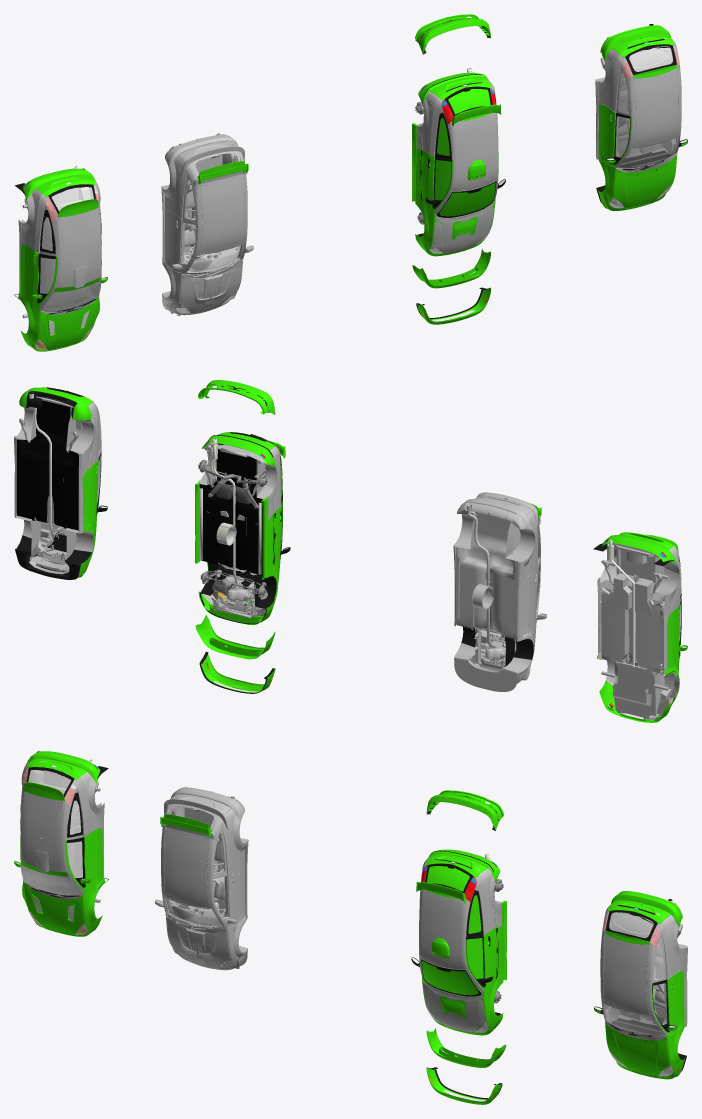
Rendered from ford-focus-mk1.glb.
3 renders of one model, top to bottom at view 1: azimuth 30°, elevation 25°; view 2: azimuth 150°, elevation 25°; view 3: azimuth 330°, elevation 25°, orthographic.
Parts seen in each view (by area): view 1: focus_SVT_body_97, focusRS_body_18, focus_body_rally_165, hatch_body_6, Object_196, focus_door_R_rally_176, focus_windshield_rally_183, Object_13, Object_513, hatch_bumper_R_ABOBA_83, Object_8, Object_547 (+7 smaller); view 2: focusRS_body_18, focus_SVT_body_97, focus_body_rally_165, hatch_body_6, Object_513, Object_636, focus_door_R_rally_176, hatch_bumper_R_ABOBA_83, Object_178, hatch_bumper_R_EU_133, focus_bumper_F_rally_178, focus_SVT_exhaust_99 (+2 smaller); view 3: focus_SVT_body_97, focusRS_body_18, focus_body_rally_165, hatch_body_6, Object_196, focus_door_L_rally_193, focus_windshield_rally_183, Object_13, Object_513, hatch_bumper_R_ABOBA_83, Object_8, Object_570 (+5 smaller).
Boxes of the visible parts, x1,y1,x2,y2 form: focus_SVT_body_97: (595, 25, 687, 210); focusRS_body_18: (161, 133, 253, 316); focus_body_rally_165: (14, 166, 107, 350); hatch_body_6: (416, 78, 498, 240); Object_196: (433, 203, 494, 253); focus_door_R_rally_176: (20, 244, 57, 305); focus_windshield_rally_183: (40, 277, 100, 312); Object_13: (439, 182, 495, 216); Object_513: (412, 248, 490, 288); hatch_bumper_R_ABOBA_83: (415, 14, 490, 53); Object_8: (448, 89, 490, 114); Object_547: (416, 148, 452, 210); focusRS_body_18: (453, 492, 546, 691); focus_SVT_body_97: (14, 387, 107, 579); focus_body_rally_165: (593, 534, 687, 719); hatch_body_6: (199, 443, 282, 616); Object_513: (195, 615, 275, 659); Object_636: (201, 654, 275, 692); focus_door_R_rally_176: (667, 598, 681, 668); hatch_bumper_R_ABOBA_83: (198, 380, 275, 414); Object_178: (200, 448, 261, 618); hatch_bumper_R_EU_133: (201, 435, 275, 466); focus_bumper_F_rally_178: (599, 680, 675, 722); focus_SVT_exhaust_99: (27, 392, 53, 541); focus_SVT_body_97: (594, 891, 687, 1079); focusRS_body_18: (155, 787, 248, 970); focus_body_rally_165: (14, 751, 108, 935); hatch_body_6: (419, 855, 502, 1018); Object_196: (423, 981, 485, 1032); focus_door_L_rally_193: (65, 828, 102, 890); focus_windshield_rally_183: (21, 861, 82, 897); Object_13: (422, 960, 478, 995); Object_513: (426, 1028, 506, 1067); hatch_bumper_R_ABOBA_83: (427, 790, 503, 829); Object_8: (427, 866, 469, 891); Object_570: (465, 926, 502, 988).
Size of the model in its own units: 16.45 by 7.19 by 1.82.
